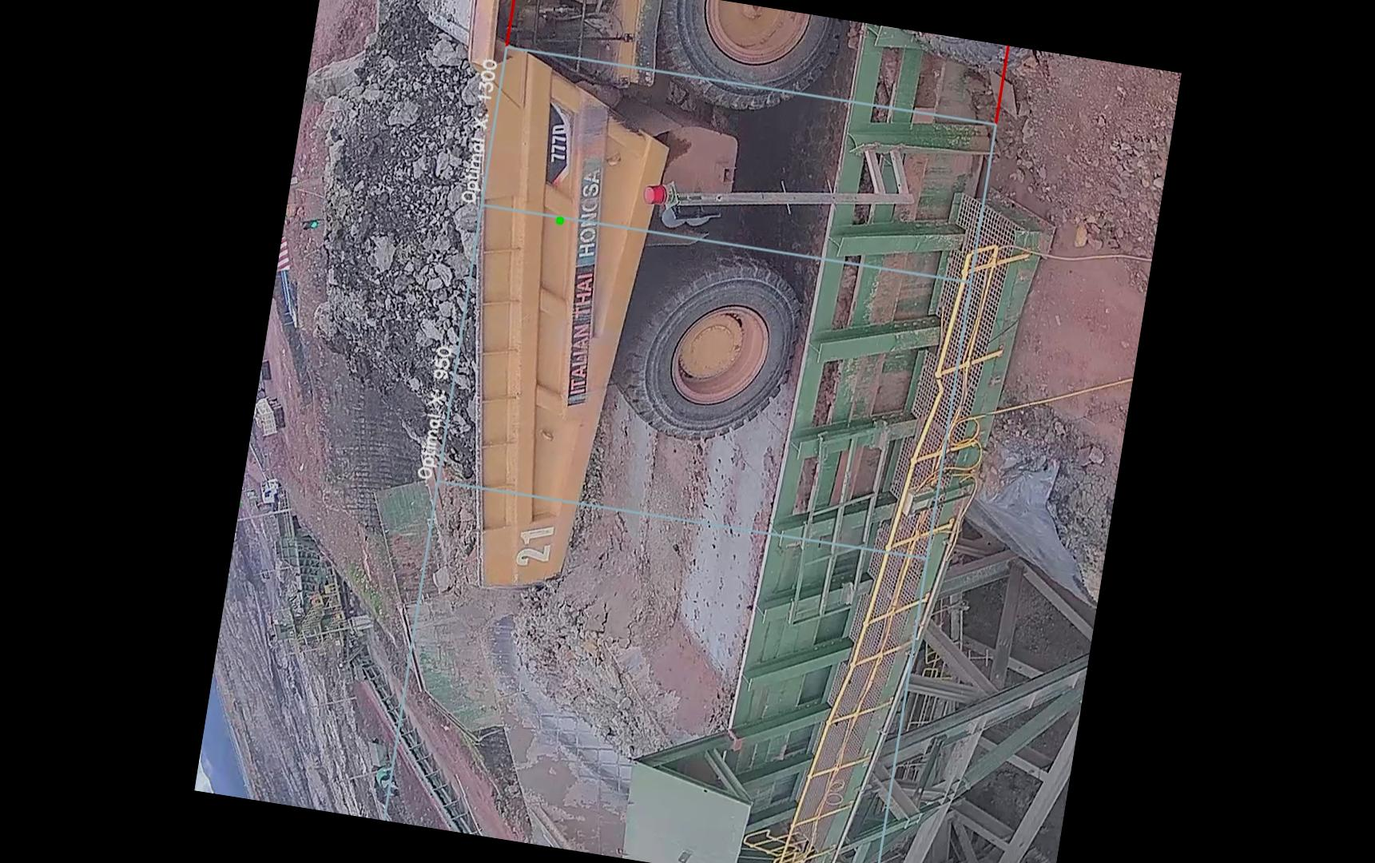company: (537, 130, 635, 424)
full_load: (276, 18, 518, 446)
mining_truck: (236, 0, 837, 637)
tail_number: (502, 505, 567, 577)
truck_size: (534, 94, 580, 189)
